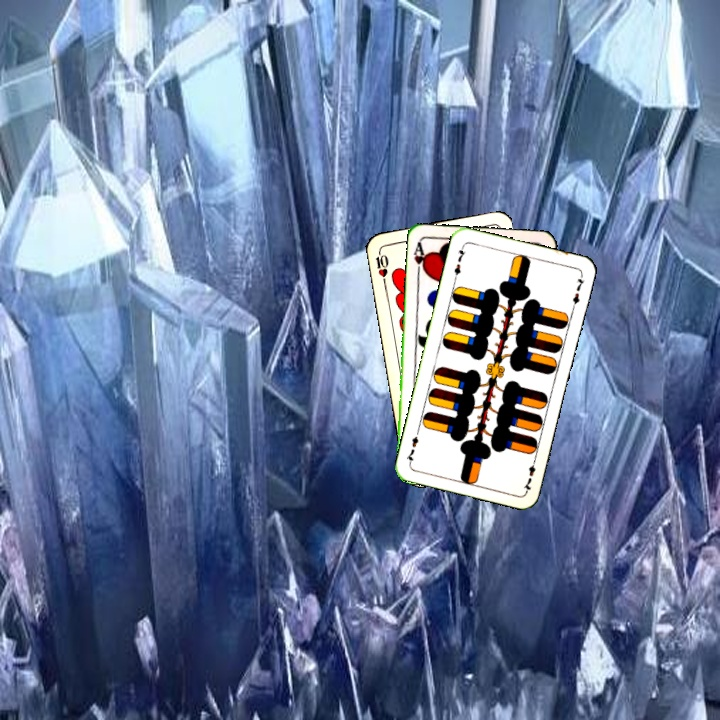E7: (519, 454, 539, 494), (450, 242, 468, 282)
H10: (371, 246, 391, 286)
HA: (410, 238, 430, 279)
